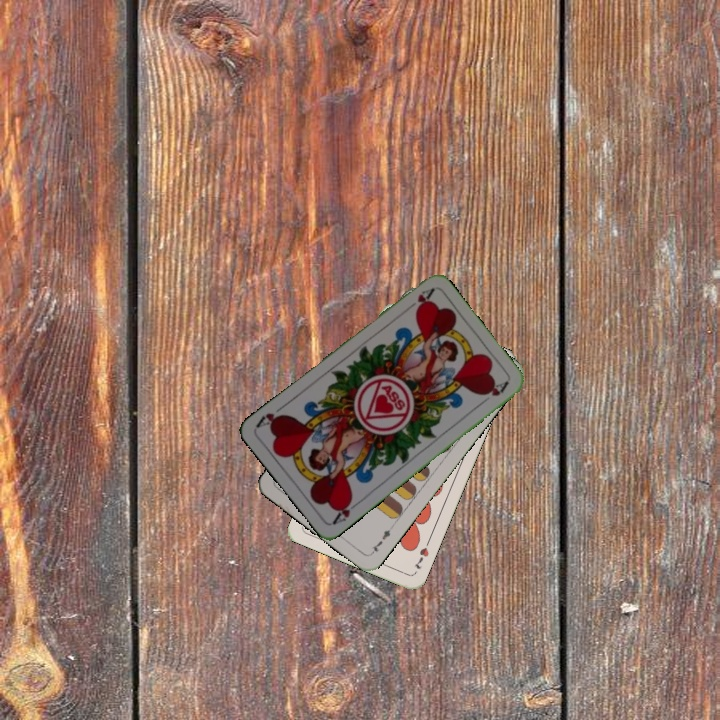E7: (367, 525, 393, 557)
H7: (409, 536, 432, 572)
HA: (329, 494, 363, 527), (401, 285, 436, 315)
